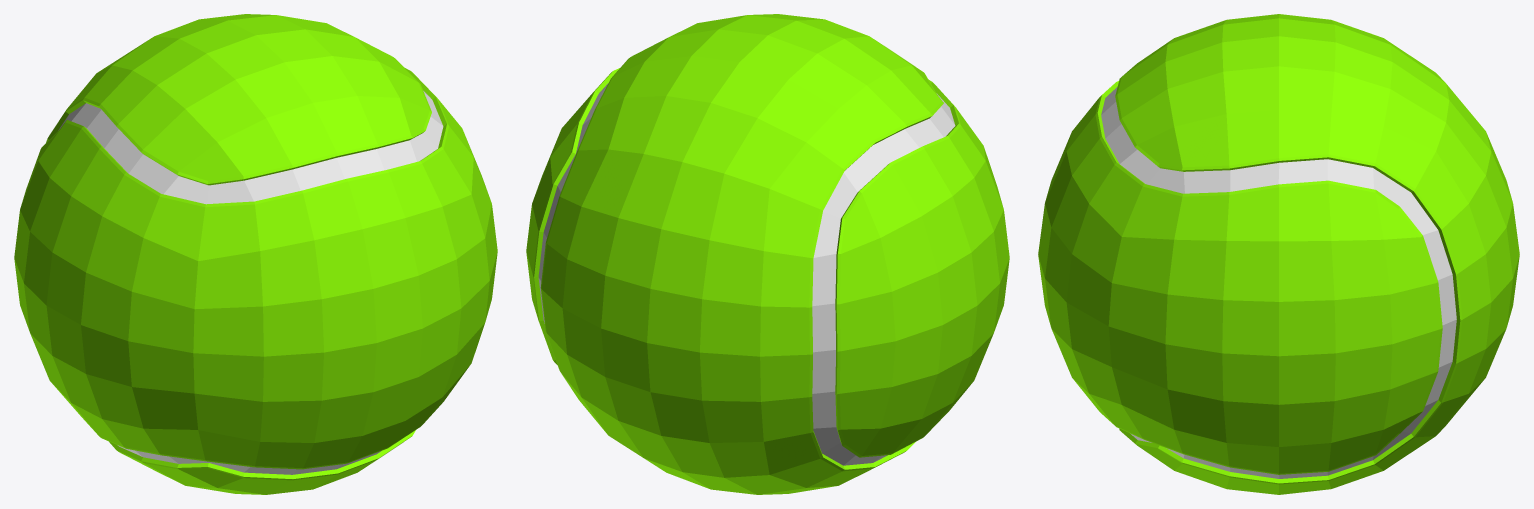
Rendered from tennisBall.glb.
3 views of the same model, side by side, from view 1: azimuth 30°, elevation 25°; view 2: azimuth 150°, elevation 25°; view 3: azimuth 270°, elevation 25° (orthographic).
Visible parts, largest first — view 1: Tennis_Ball, Lines; view 2: Tennis_Ball, Lines; view 3: Tennis_Ball, Lines.
Part boxes in pixels (x1,y1,x2,y2): Tennis_Ball: (14, 14, 497, 494); Lines: (58, 91, 443, 474); Tennis_Ball: (526, 14, 1009, 494); Lines: (538, 83, 955, 465); Tennis_Ball: (1038, 14, 1519, 494); Lines: (1101, 87, 1456, 478).
Bounding box in the file's own units: 2 × 2 × 2.
